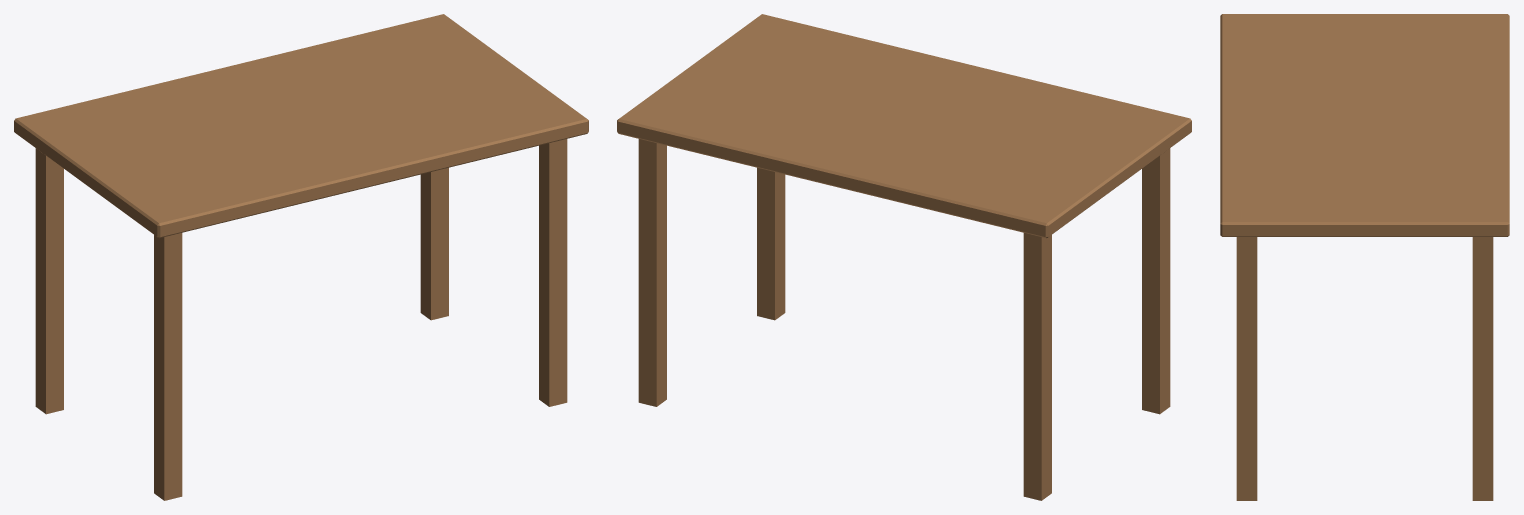
Rendered from Mesa.fbx.
The picture shows the model from 3 angles, left to right: view 1: azimuth 30°, elevation 25°; view 2: azimuth 150°, elevation 25°; view 3: azimuth 270°, elevation 25°; orthographic projection.
Parts seen in each view (by area): view 1: Mesa; view 2: Mesa; view 3: Mesa.
Part boxes in pixels (x1,y1,x2,y2): Mesa: (14,14,588,500); Mesa: (617,14,1191,500); Mesa: (1220,14,1509,500).
Size of the model in its own units: 1.2 by 0.76 by 0.7.
